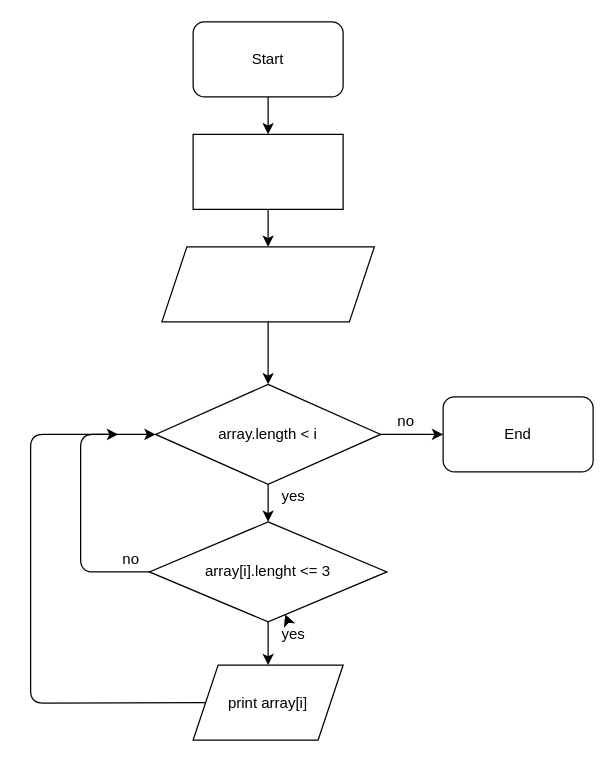
The diagram is 615 pixels wide and 763 high, and some of its shapes have lost their labels. Here are the shapes that lost their labels. From the top down, the centre of each, then its label:
point (267, 171): string[] array
point (267, 284): заполняем массив
